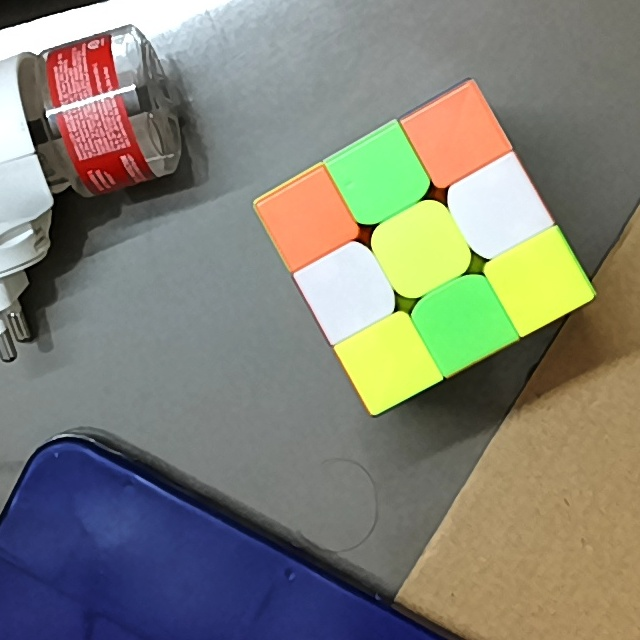tile: (355, 329, 416, 392), (424, 103, 485, 165), (471, 175, 528, 238), (512, 252, 569, 314), (435, 292, 494, 351), (391, 220, 450, 277), (318, 261, 376, 317), (353, 148, 409, 205), (277, 192, 332, 246)
